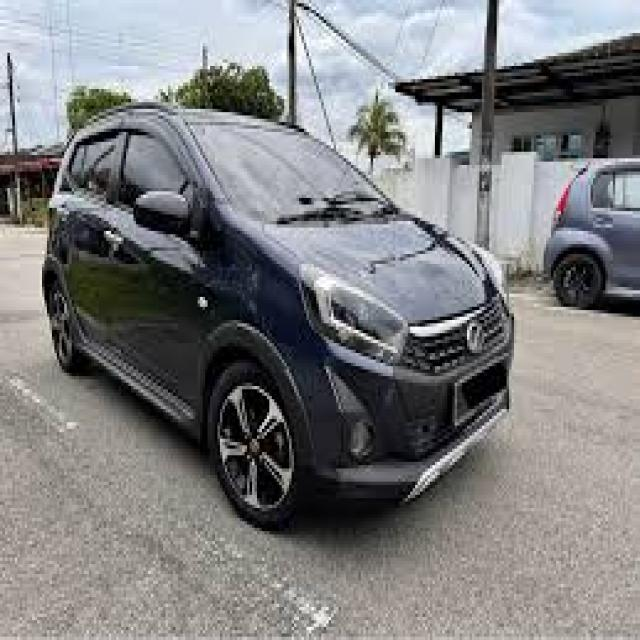PeroduaAxia: (39, 96, 516, 531)
